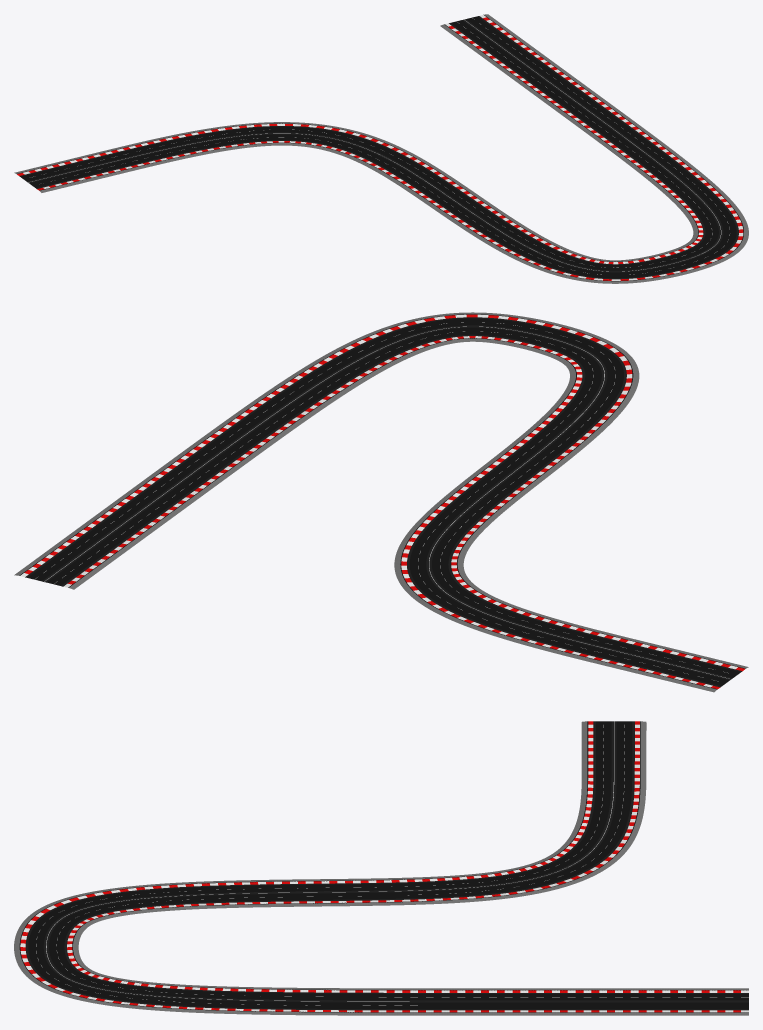
Rendered from S0.2l2-speed.glb.
3 renders of one model, top to bottom at view 1: azimuth 30°, elevation 25°; view 2: azimuth 150°, elevation 25°; view 3: azimuth 270°, elevation 25°, orthographic. The views are drawn at different scales.
Visible parts, largest first — view 1: Grid; view 2: Grid; view 3: Grid.
Boxes of the visible parts, left/top/right/bottom form: Grid: left=14, top=14, right=748, bottom=283; Grid: left=14, top=312, right=748, bottom=692; Grid: left=14, top=721, right=748, bottom=1015.
Size of the model in its own units: 269 by 0.31 by 284.
